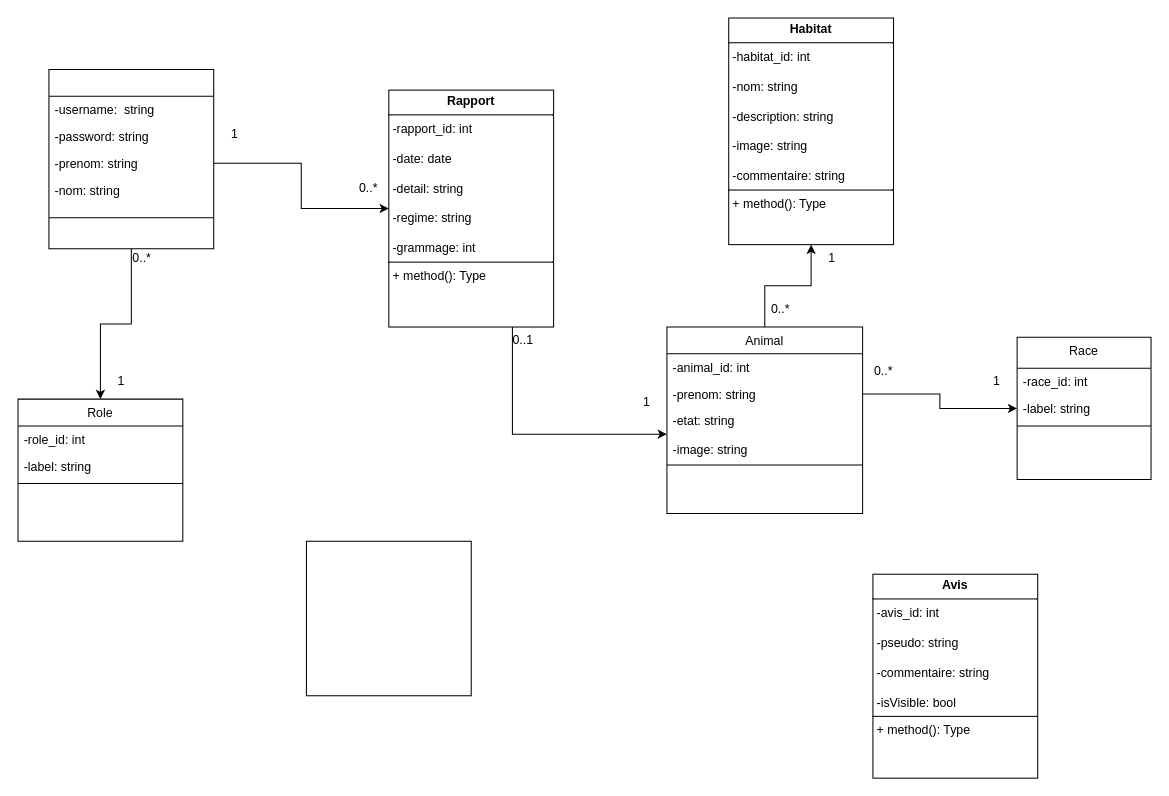
This 1169x796 diagram has some shape labels left out. The shapes that lost their labels are listed below. From the top down, each one's box as (x1, y1, x2, y2) in pixels, then its label:
(48, 68, 214, 249): Utilisateur
(305, 540, 471, 696): Service -service_id: int -nom: string -description: string + method(): Type
